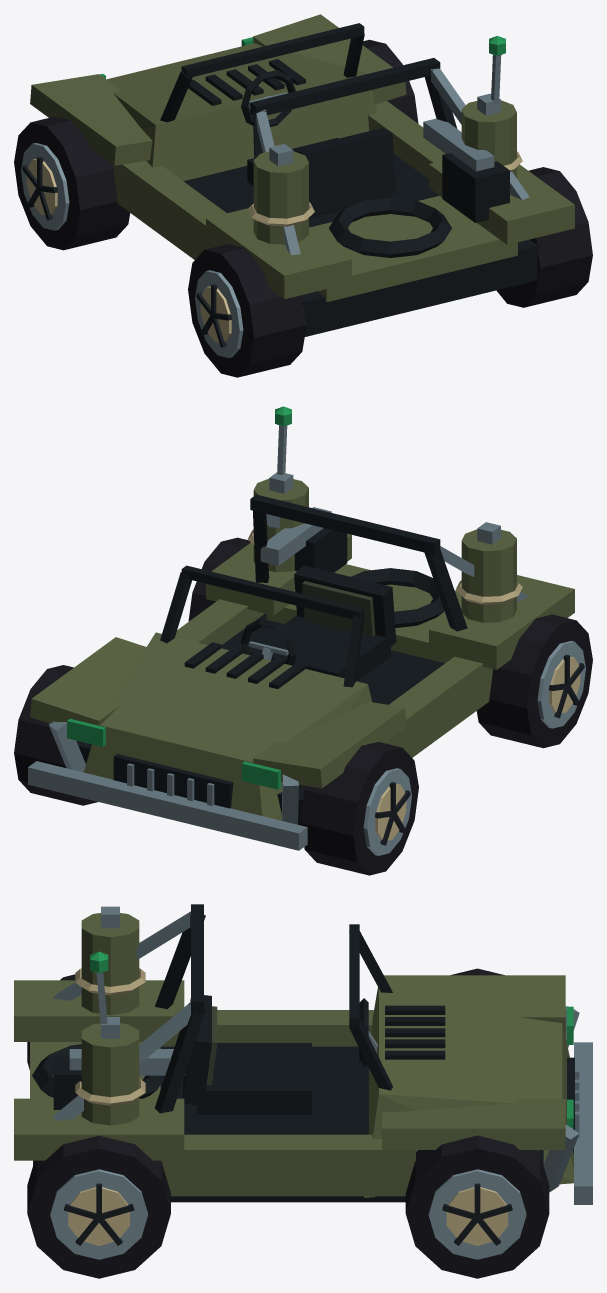
Rendered from kart.glb.
3 renders of one model, top to bottom at view 1: azimuth 30°, elevation 25°; view 2: azimuth 150°, elevation 25°; view 3: azimuth 270°, elevation 25°, orthographic. The views are drawn at different scales.
Visible parts, largest first — view 1: identity-warthog-warthog-sloped-armored-bonnet, identity-warthog-warthog-open-cage-and-cargo-bed, wheel-rear-left, wheel-front-left, identity-warthog-motif-tanks, identity-warthog-driver-cockpit, wheel-rear-right, wheel-front-right, identity-warthog-motif-antenna; view 2: identity-warthog-warthog-sloped-armored-bonnet, identity-warthog-warthog-open-cage-and-cargo-bed, wheel-front-left, wheel-rear-left, identity-warthog-driver-cockpit, identity-warthog-motif-tanks, wheel-front-right, wheel-rear-right, identity-warthog-motif-antenna; view 3: identity-warthog-warthog-sloped-armored-bonnet, wheel-front-right, wheel-rear-right, identity-warthog-warthog-open-cage-and-cargo-bed, identity-warthog-motif-tanks, identity-warthog-driver-cockpit, identity-warthog-motif-antenna.
Part boxes in pixels (box(x1,y1,x2,y2)): identity-warthog-warthog-sloped-armored-bonnet: box(30, 14, 574, 336); identity-warthog-warthog-open-cage-and-cargo-bed: box(160, 23, 529, 302); wheel-rear-left: box(188, 244, 306, 377); wheel-front-left: box(14, 116, 130, 250); identity-warthog-motif-tanks: box(248, 93, 522, 244); identity-warthog-driver-cockpit: box(241, 70, 396, 218); wheel-rear-right: box(496, 167, 592, 307); wheel-front-right: box(362, 39, 418, 123); identity-warthog-motif-antenna: box(489, 36, 505, 104); identity-warthog-warthog-sloped-armored-bonnet: box(28, 533, 574, 850); identity-warthog-warthog-open-cage-and-cargo-bed: box(160, 494, 529, 687); wheel-front-left: box(300, 742, 418, 875); wheel-rear-left: box(476, 614, 592, 748); identity-warthog-driver-cockpit: box(241, 565, 396, 681); identity-warthog-motif-tanks: box(247, 472, 522, 622); wheel-front-right: box(14, 665, 97, 805); wheel-rear-right: box(188, 537, 250, 621); identity-warthog-motif-antenna: box(275, 406, 291, 474); identity-warthog-warthog-sloped-armored-bonnet: box(14, 975, 592, 1204); wheel-front-right: box(405, 1135, 549, 1278); wheel-rear-right: box(27, 1135, 170, 1278); identity-warthog-warthog-open-cage-and-cargo-bed: box(30, 904, 392, 1120); identity-warthog-motif-tanks: box(75, 906, 145, 1125); identity-warthog-driver-cockpit: box(183, 995, 377, 1114); identity-warthog-motif-antenna: box(90, 951, 108, 1025).
Bounding box in the file's own units: 2.37 × 1.72 × 3.06.
